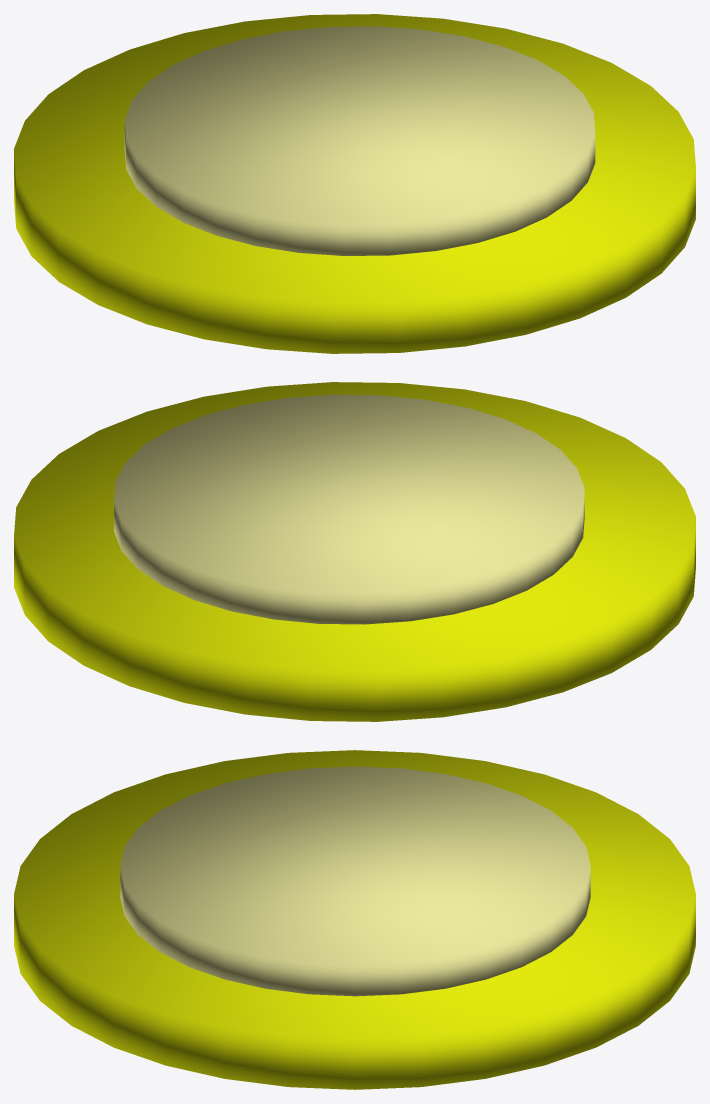
File: yellowPlate.fbx
3 views of the same model, one above another, from view 1: azimuth 30°, elevation 25°; view 2: azimuth 150°, elevation 25°; view 3: azimuth 270°, elevation 25° (orthographic).
Parts seen in each view (by area): view 1: Cylinder, Cylinder.001; view 2: Cylinder, Cylinder.001; view 3: Cylinder, Cylinder.001.
Part boxes in pixels (<box>): Cylinder: <box>14,14,695,353</box>; Cylinder.001: <box>124,26,595,255</box>; Cylinder: <box>14,382,695,721</box>; Cylinder.001: <box>114,394,584,624</box>; Cylinder: <box>14,750,695,1089</box>; Cylinder.001: <box>120,766,590,996</box>.
Size of the model in its own units: 120 by 16.01 by 120.
